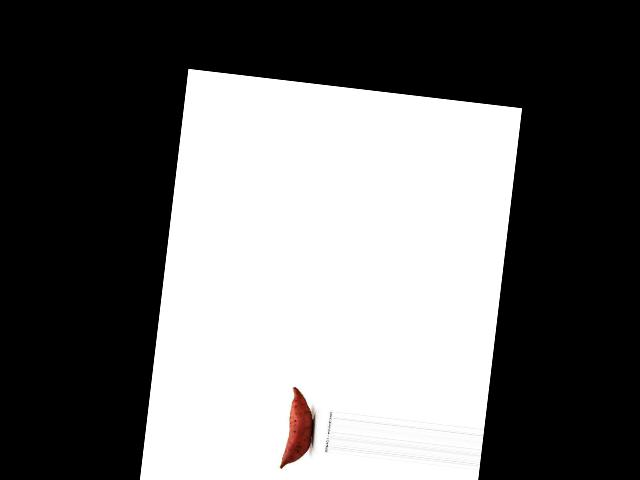sweet_potato: (275, 385, 318, 472)
